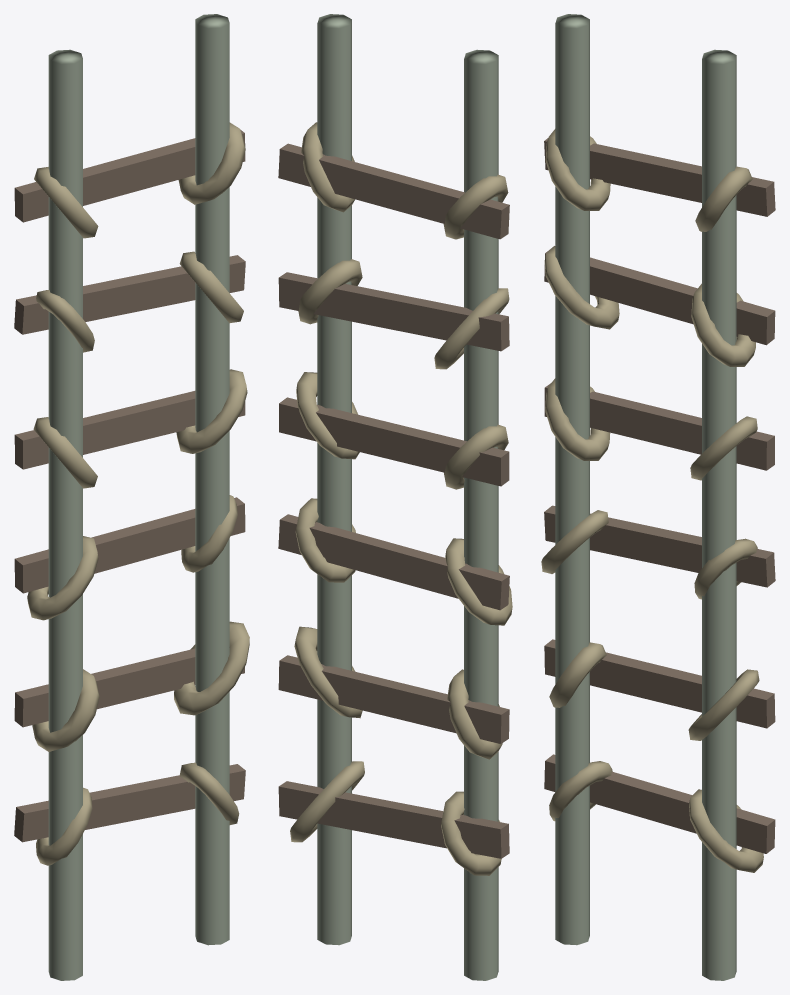
Rendered from props_ladder_001.fbx.
3 renders of one model, left to right at view 1: azimuth 30°, elevation 25°; view 2: azimuth 150°, elevation 25°; view 3: azimuth 330°, elevation 25°, orthographic.
Parts seen in each view (by area): view 1: props_ladder; view 2: props_ladder; view 3: props_ladder.
Part boxes in pixels (<box>): props_ladder: <box>14,14,249,980</box>; props_ladder: <box>278,14,512,980</box>; props_ladder: <box>541,14,775,980</box>.
Bounding box in the file's own units: 94.33 × 370 × 30.11.
